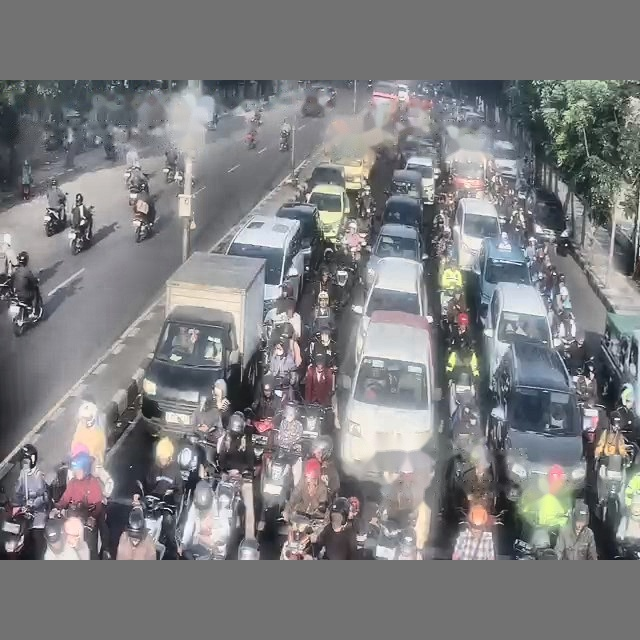Mobil: (336, 311, 439, 483), (489, 342, 585, 501), (481, 282, 558, 389), (352, 257, 431, 356), (226, 214, 303, 315), (474, 238, 531, 322), (365, 223, 427, 287), (276, 202, 323, 276), (453, 198, 500, 270), (308, 184, 350, 242), (526, 188, 565, 241), (381, 194, 424, 233), (405, 156, 438, 204), (306, 162, 346, 192), (391, 169, 422, 203), (493, 140, 517, 179), (301, 93, 324, 117), (397, 84, 409, 101)
Motor: (134, 482, 175, 559), (280, 514, 324, 559), (2, 507, 32, 559), (8, 296, 42, 336), (449, 368, 475, 415), (68, 221, 90, 254), (43, 207, 66, 236), (133, 214, 152, 242), (279, 133, 289, 151)
Truk: (141, 252, 264, 434)
